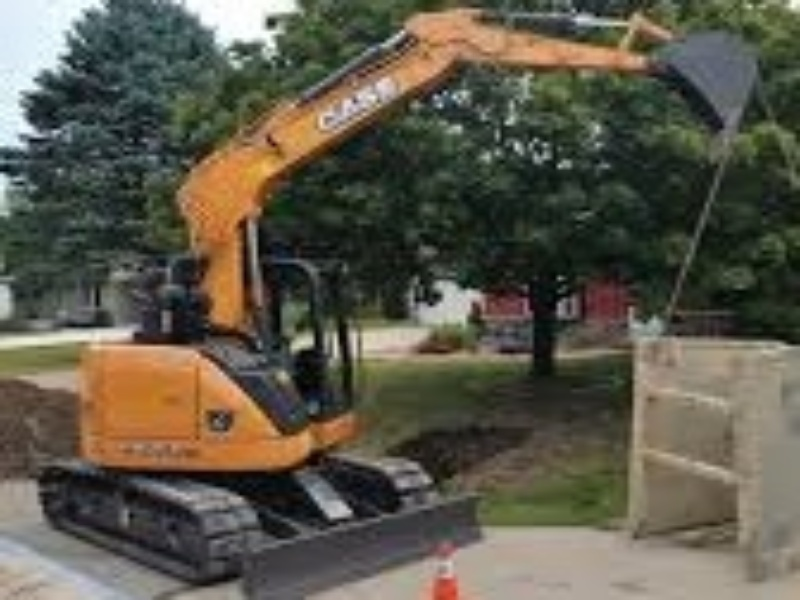wajueji: (24, 150, 531, 600)
